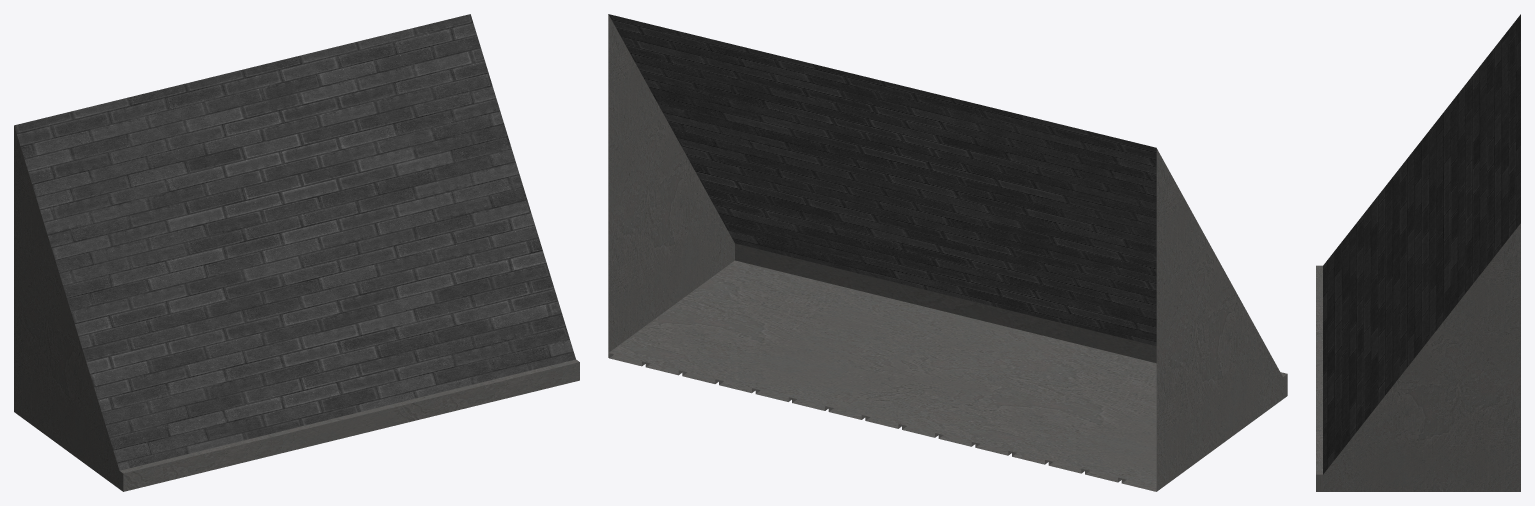
The model's file is Sm_Roof01b.fbx.
3 renders of one model, left to right at view 1: azimuth 30°, elevation 25°; view 2: azimuth 150°, elevation 25°; view 3: azimuth 270°, elevation 25°, orthographic. The views are drawn at different scales.
Visible parts, largest first — view 1: Sm_Roof01b; view 2: Sm_Roof01b; view 3: Sm_Roof01b.
Boxes of the visible parts, <box> form: Sm_Roof01b: <box>14,14,579,491</box>; Sm_Roof01b: <box>608,14,1287,491</box>; Sm_Roof01b: <box>1316,14,1520,491</box>.
Bounding box in the file's own units: 250 × 104 × 150.
Materials: 2 (2 with a texture image).
